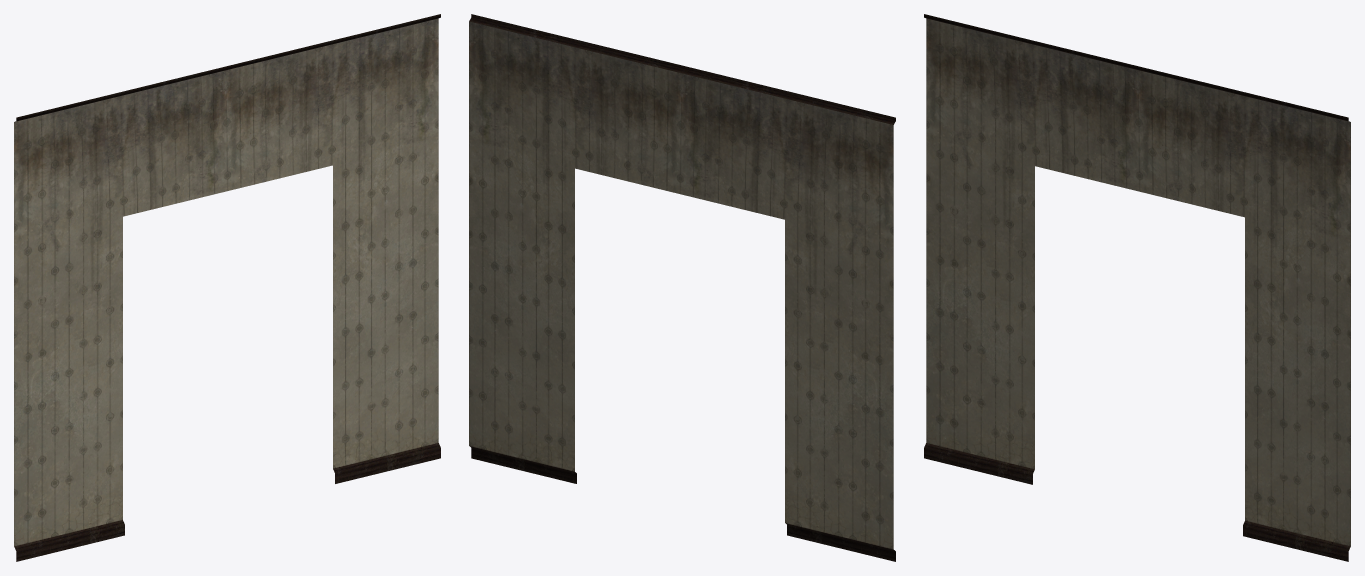
The model's file is hallway_damaged_doorway.dae.
3 renders of one model, left to right at view 1: azimuth 30°, elevation 25°; view 2: azimuth 150°, elevation 25°; view 3: azimuth 330°, elevation 25°, orthographic.
Parts seen in each view (by area): view 1: pPlane7; view 2: pPlane7; view 3: pPlane7.
Boxes of the visible parts, left/top/right/bottom form: pPlane7: left=14, top=14, right=440, bottom=561; pPlane7: left=469, top=14, right=895, bottom=561; pPlane7: left=924, top=14, right=1350, bottom=561.
Size of the model in its own units: 4 by 4 by 0.0341.
